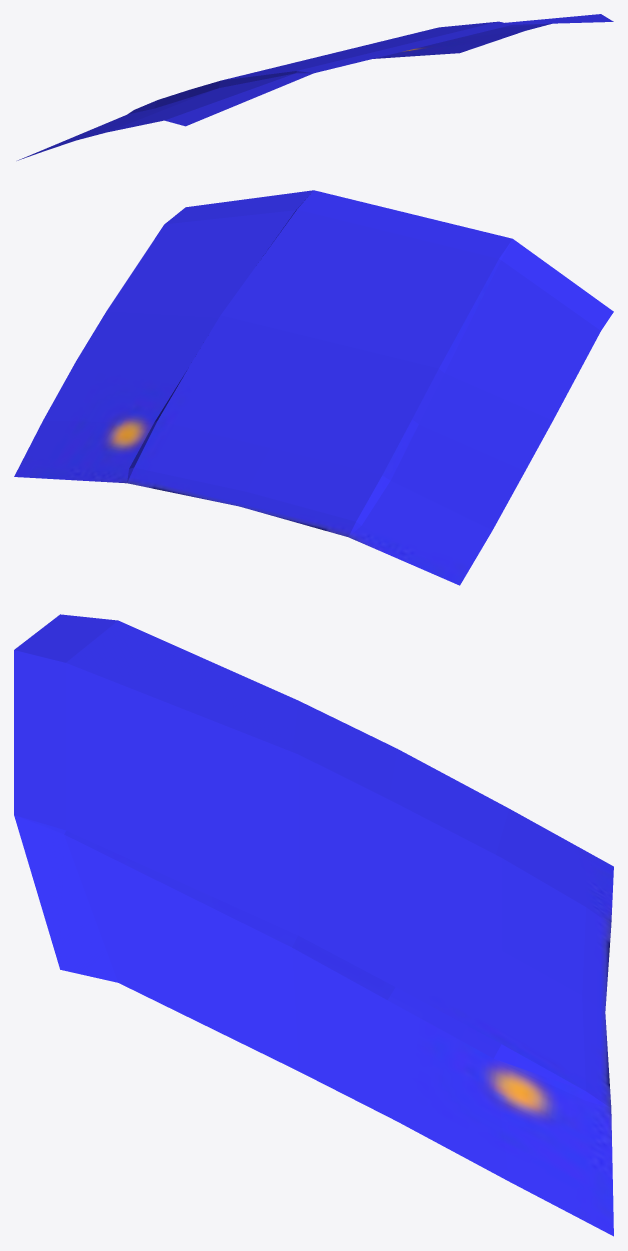
File: hood8.obj
3 views of the same model, one above another, from view 1: azimuth 30°, elevation 25°; view 2: azimuth 150°, elevation 25°; view 3: azimuth 270°, elevation 25° (orthographic). The views are drawn at different scales.
Visible parts, largest first — view 1: hood; view 2: hood; view 3: hood.
Part boxes in pixels (x1=…): hood: x1=17, y1=14, x2=613, y2=160; hood: x1=14, y1=190, x2=613, y2=585; hood: x1=14, y1=614, x2=613, y2=1236.
Size of the model in its own units: 1.09 by 0.436 by 0.7429.
